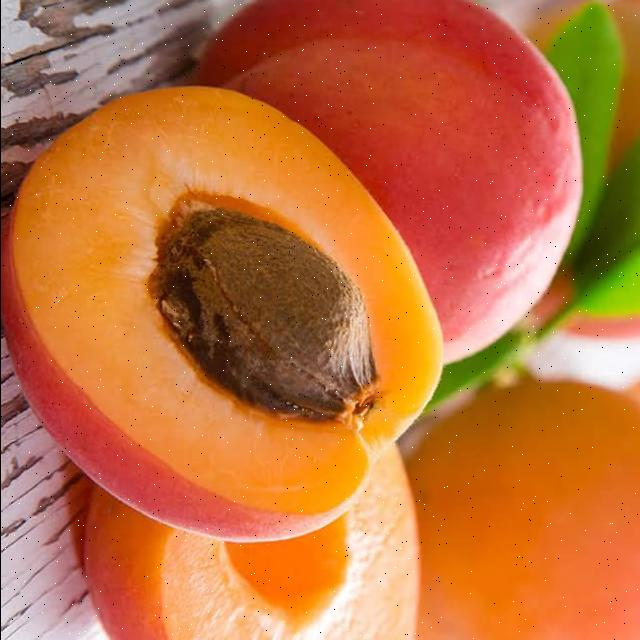Cekirdek: (152, 208, 379, 429)
Kayisi: (1, 88, 442, 540), (197, 1, 581, 360), (86, 446, 417, 640), (407, 380, 640, 640)
Yaprak: (544, 1, 621, 261)
